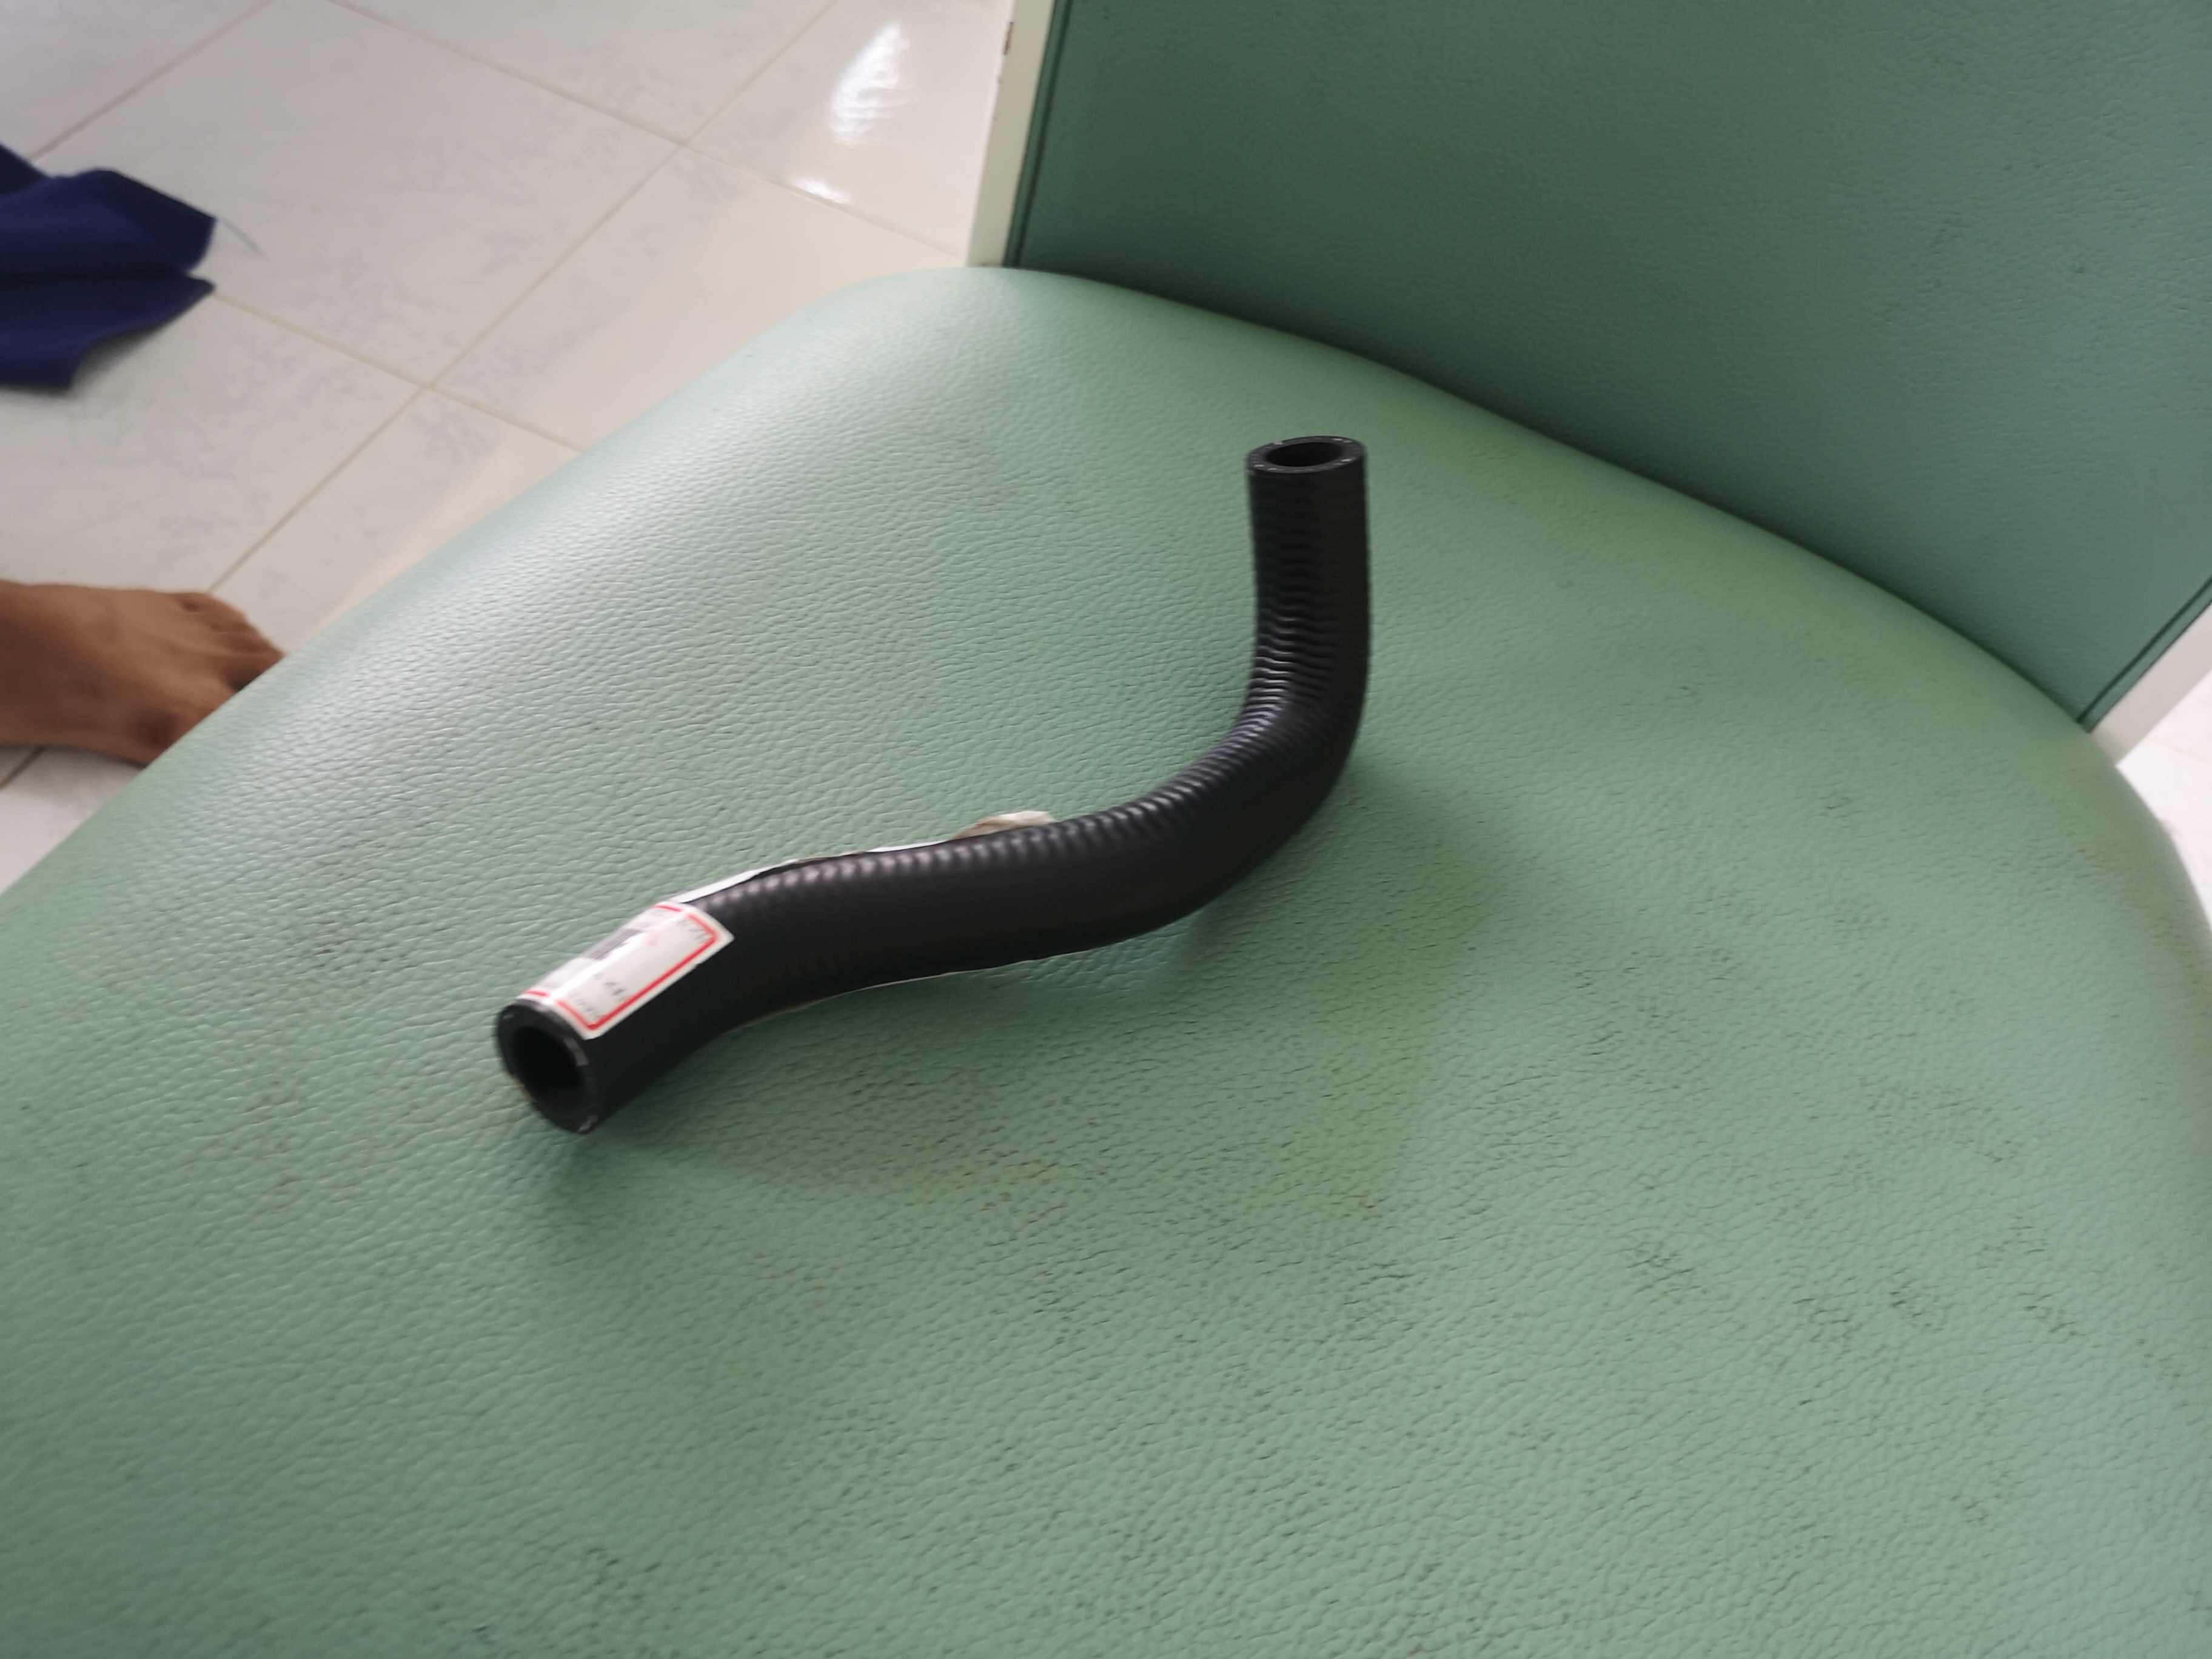ท่อยางน้ำมันเลี้ยงเทอร์โบ: (465, 411, 1407, 1161)
